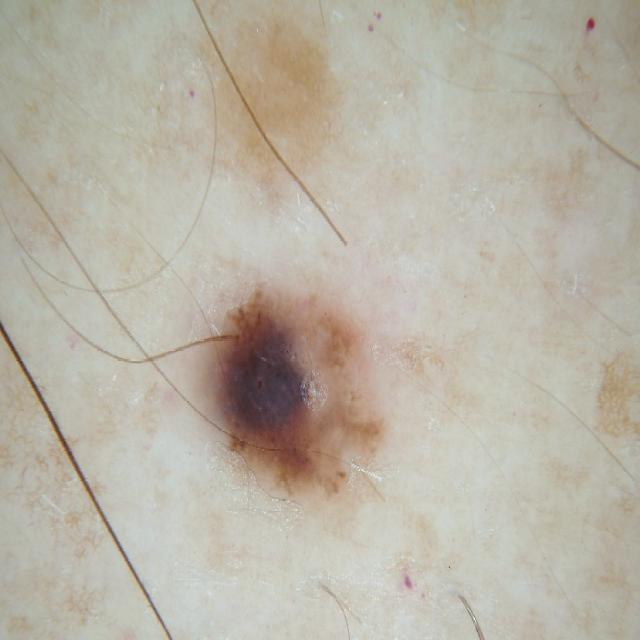Melanoma: (157, 276, 383, 500)
